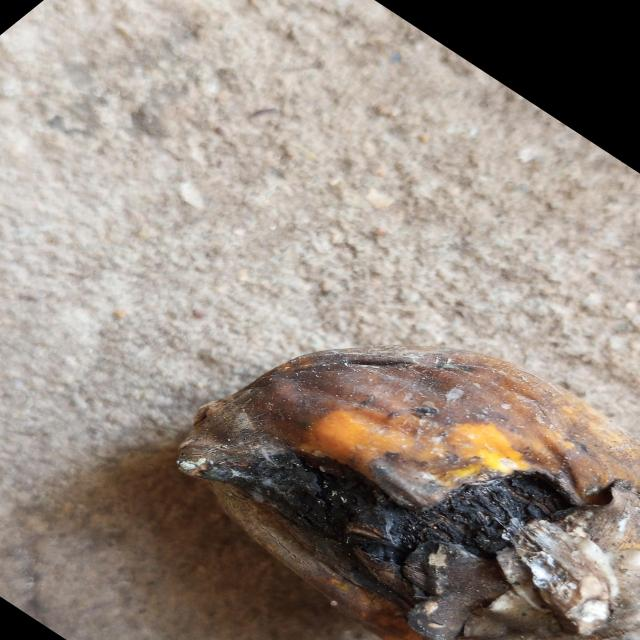damaged: (178, 348, 640, 640)
